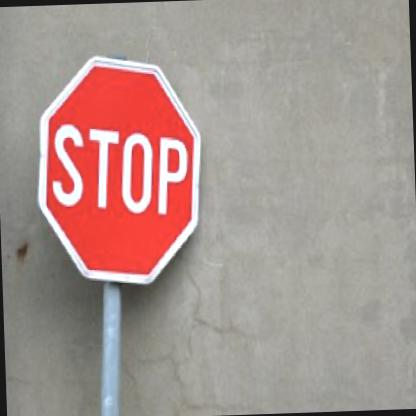stop: (28, 49, 206, 286)
